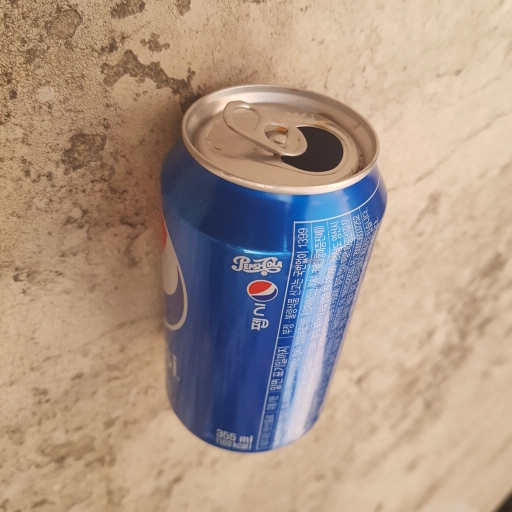Metal_0: (154, 86, 388, 450)
